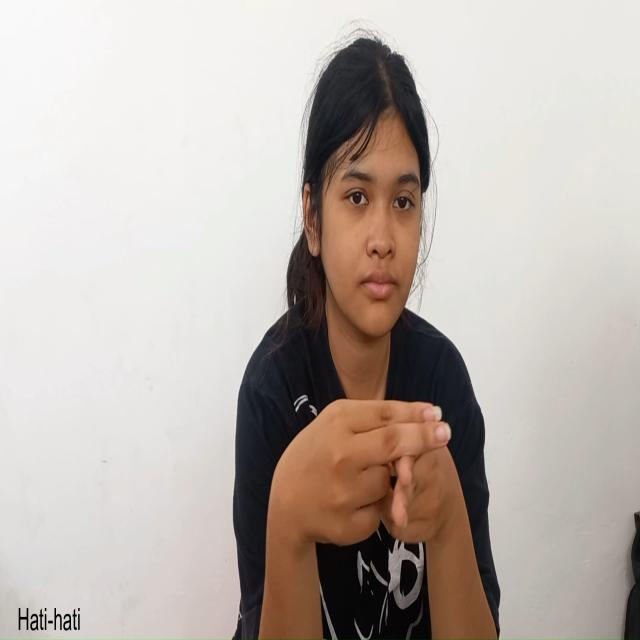Hati-hati -BISINDO-: (264, 392, 476, 574)
